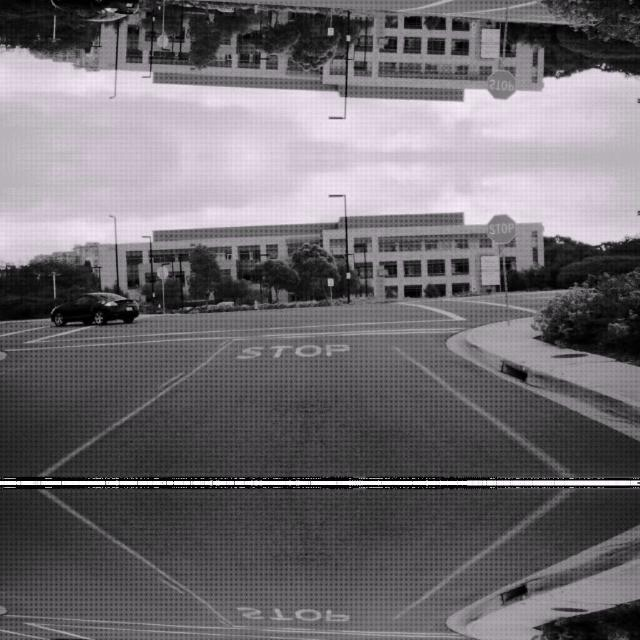stop: (485, 212, 517, 242), (485, 70, 517, 100)
